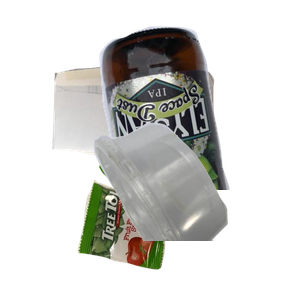glass: (97, 24, 300, 204)
paper: (50, 61, 257, 211)
plastic: (91, 120, 300, 300)
trash: (75, 156, 244, 300)
